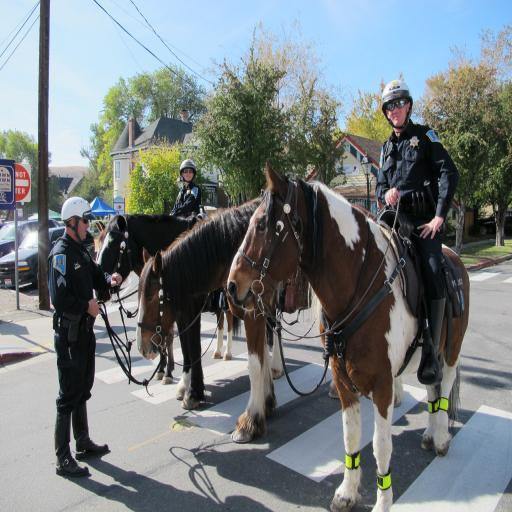horse: (227, 154, 470, 512), (136, 188, 380, 444), (93, 214, 235, 386)
